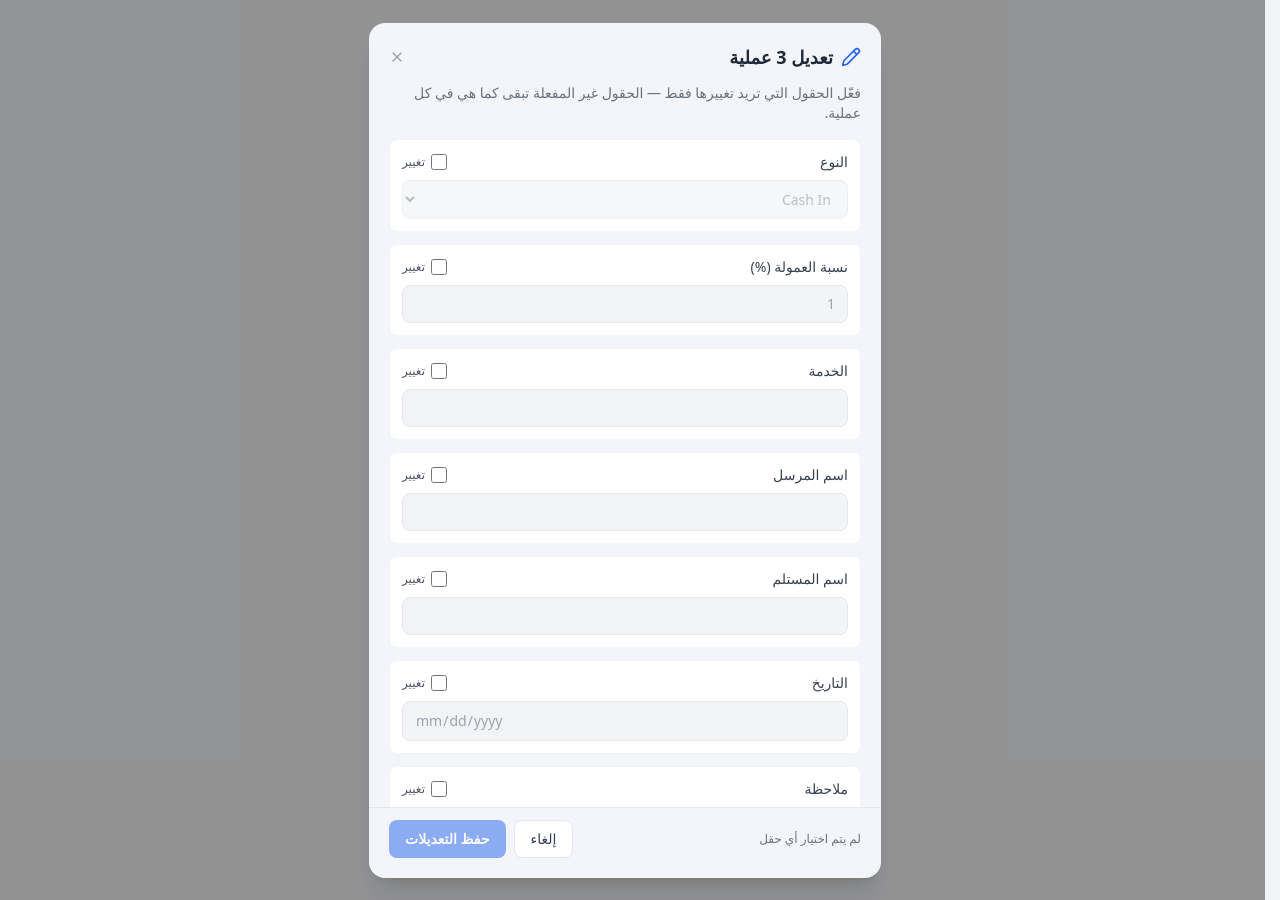
Test: BulkEditModal › blocks an invalid commission rate
The image size is (1280, 900).
Click the checkbox labelled "تغيير" in the row of "نسبة العمولة (%)": click(439, 266) [431,258,447,274]
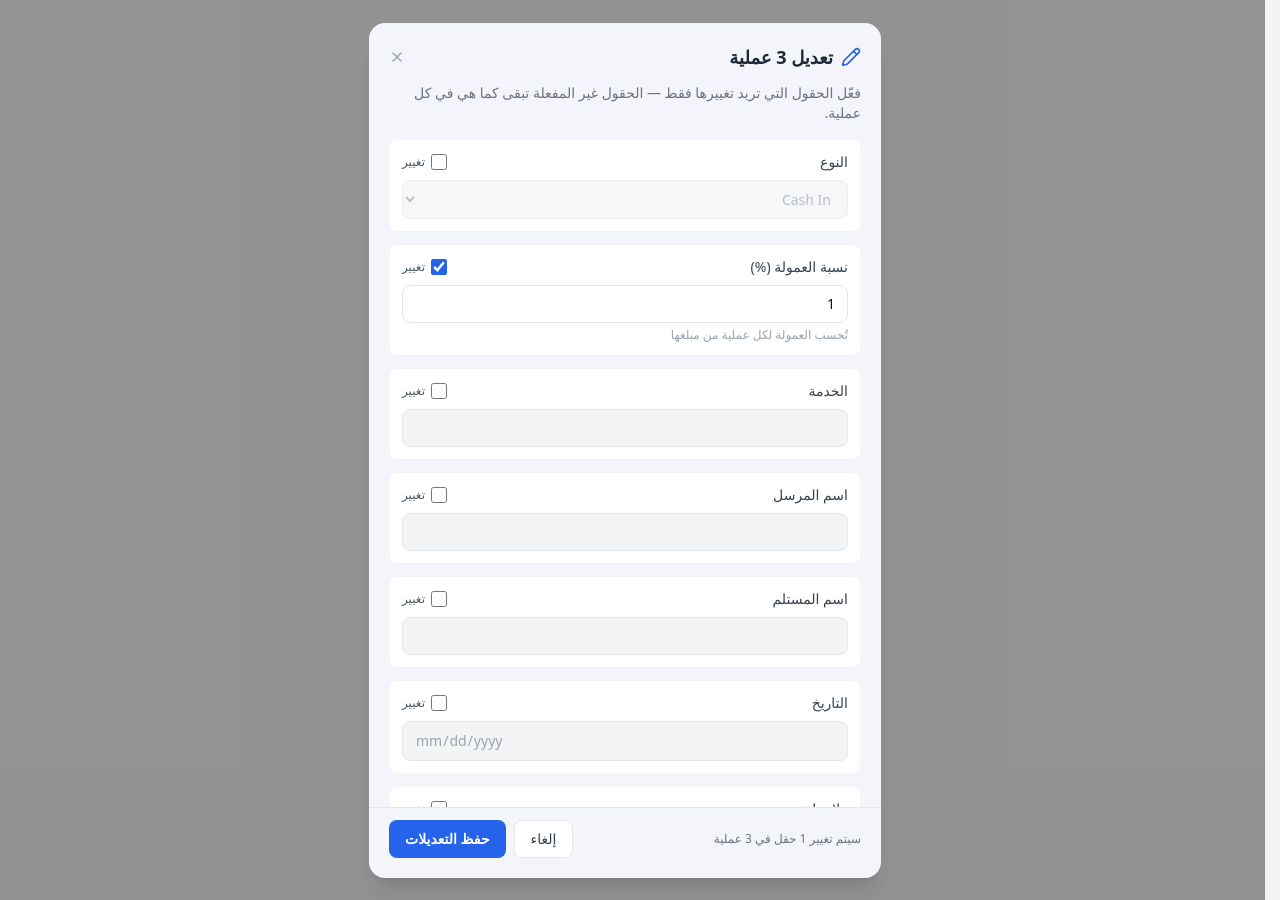
Replace the text in the number field labelled "نسبة العمولة (%)" with "-2": (625, 304) [402,284,848,322]
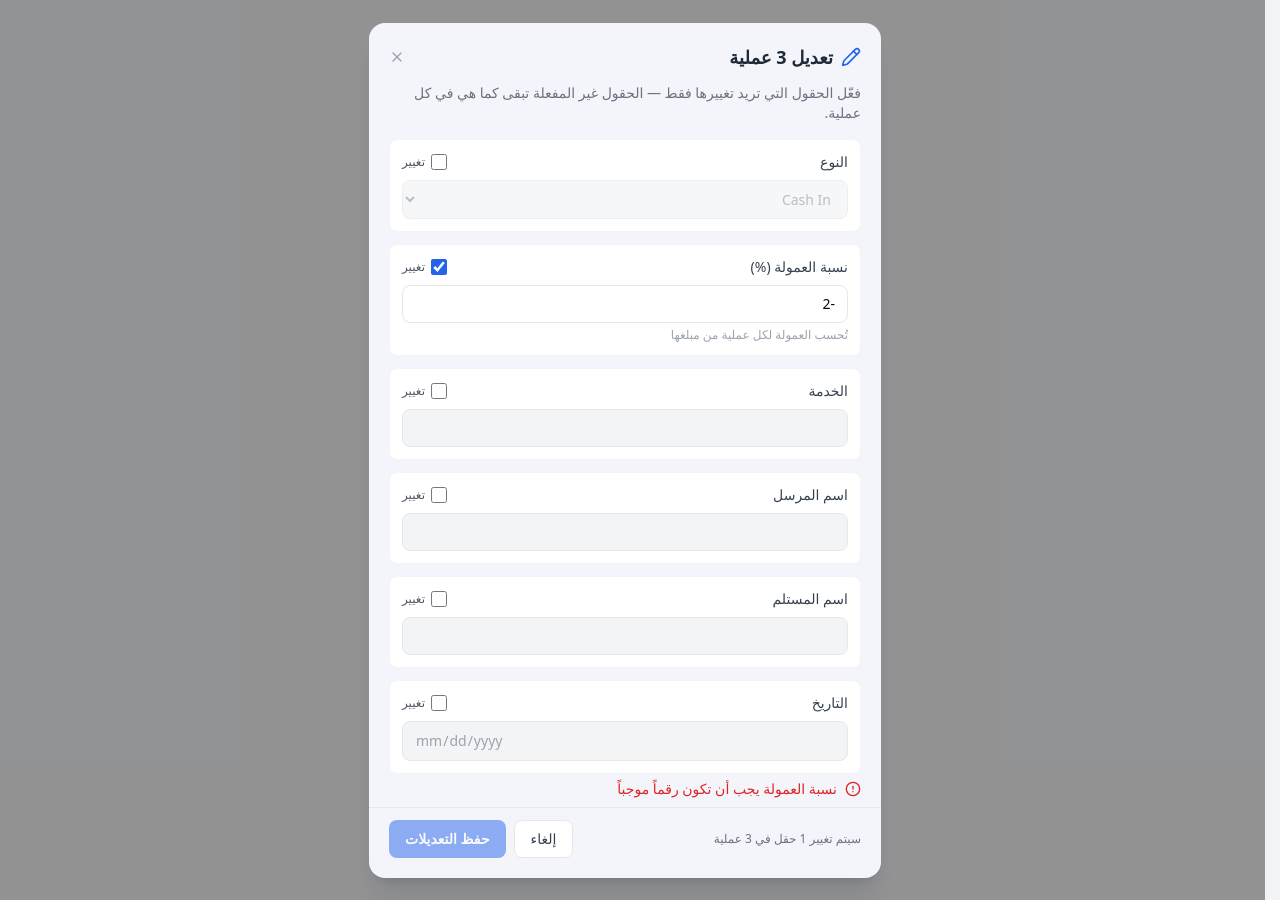
Now the text "نسبة العمولة يجب أن تكون رقماً موجباً" is shown, box [617,778,837,798]
Now the button "حفظ التعديلات" is disabled, box [389,820,506,858]
